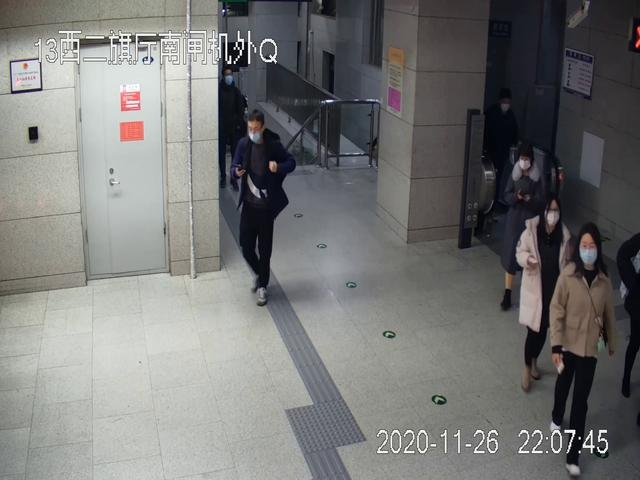person: (549, 221, 616, 480), (231, 106, 295, 307), (517, 197, 568, 391), (501, 146, 543, 312), (218, 65, 246, 192)
